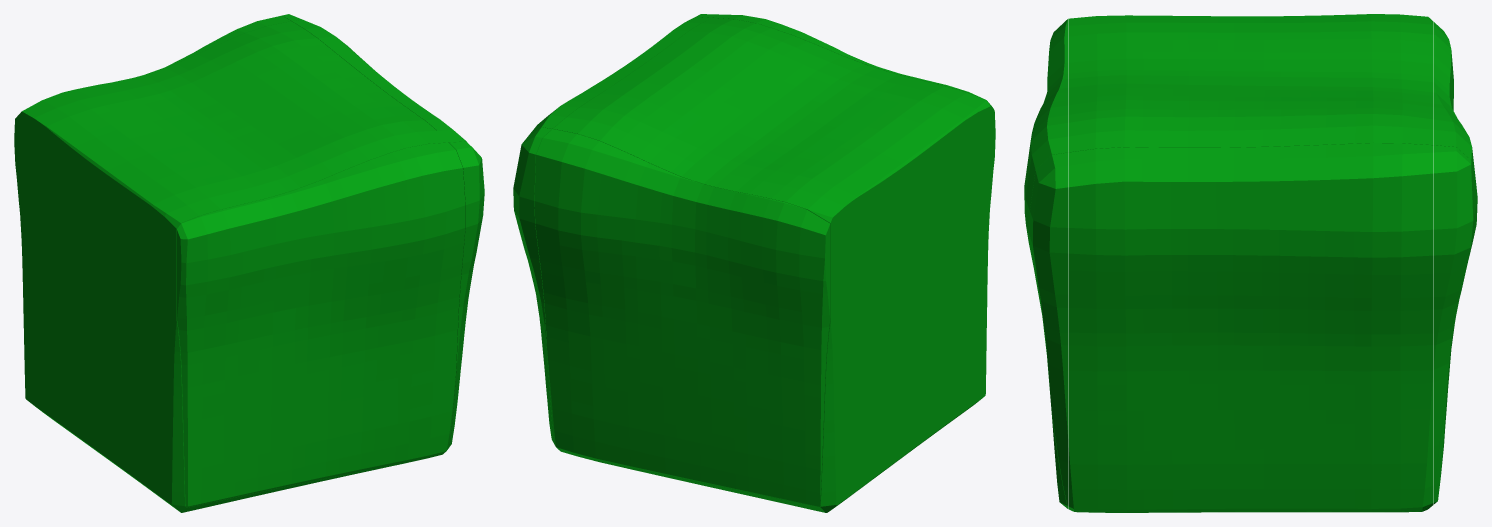
File: 4by10beveledsubdivided.017.fbx
3 views of the same model, side by side, from view 1: azimuth 30°, elevation 25°; view 2: azimuth 150°, elevation 25°; view 3: azimuth 270°, elevation 25° (orthographic). The views are drawn at different scales.
Parts seen in each view (by area): view 1: 4by10beveledsubdivided.017; view 2: 4by10beveledsubdivided.017; view 3: 4by10beveledsubdivided.017.
Boxes of the visible parts, box(x1,y1,x2,y2) form: 4by10beveledsubdivided.017: box(14, 14, 484, 512); 4by10beveledsubdivided.017: box(513, 14, 995, 512); 4by10beveledsubdivided.017: box(1024, 14, 1477, 512).
Size of the model in its own units: 227 by 226 by 249.
